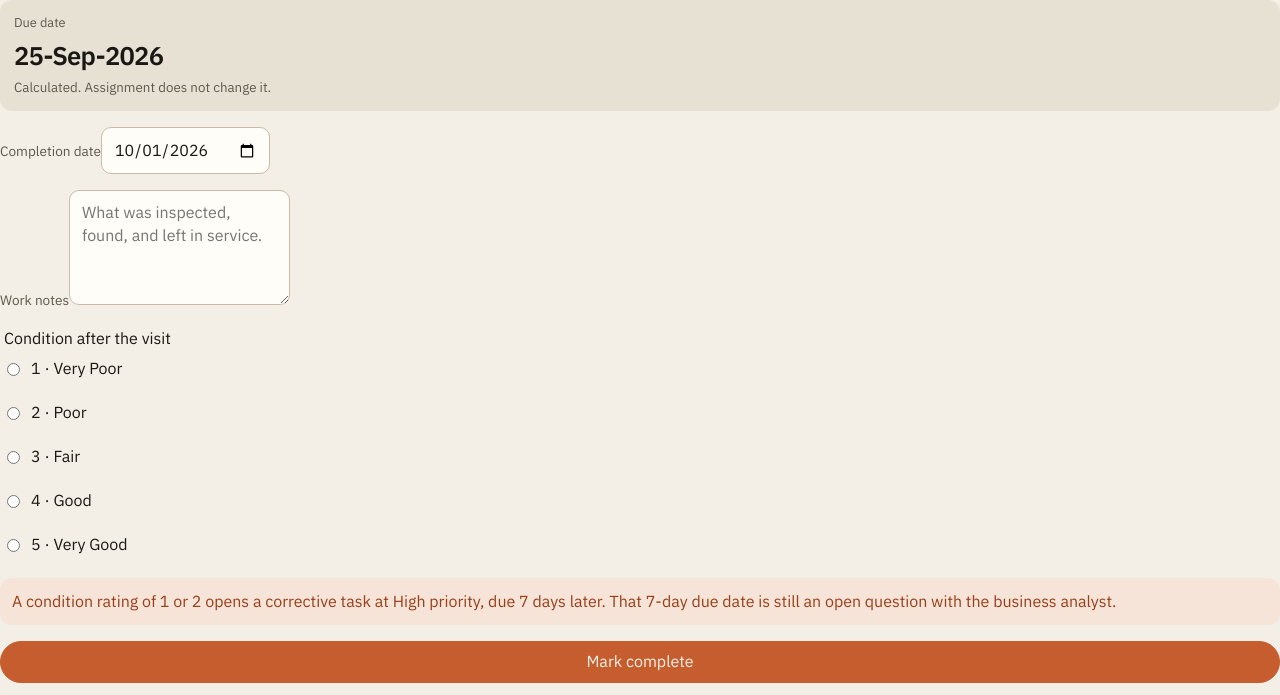
Test: CompletionForm › requires notes and explains the open 7-day corrective question
Expected: the text "still an open question" is shown, [12, 591, 1116, 611]
Step 1. Click the button "Mark complete" → click(640, 662), box [0, 642, 1279, 683]
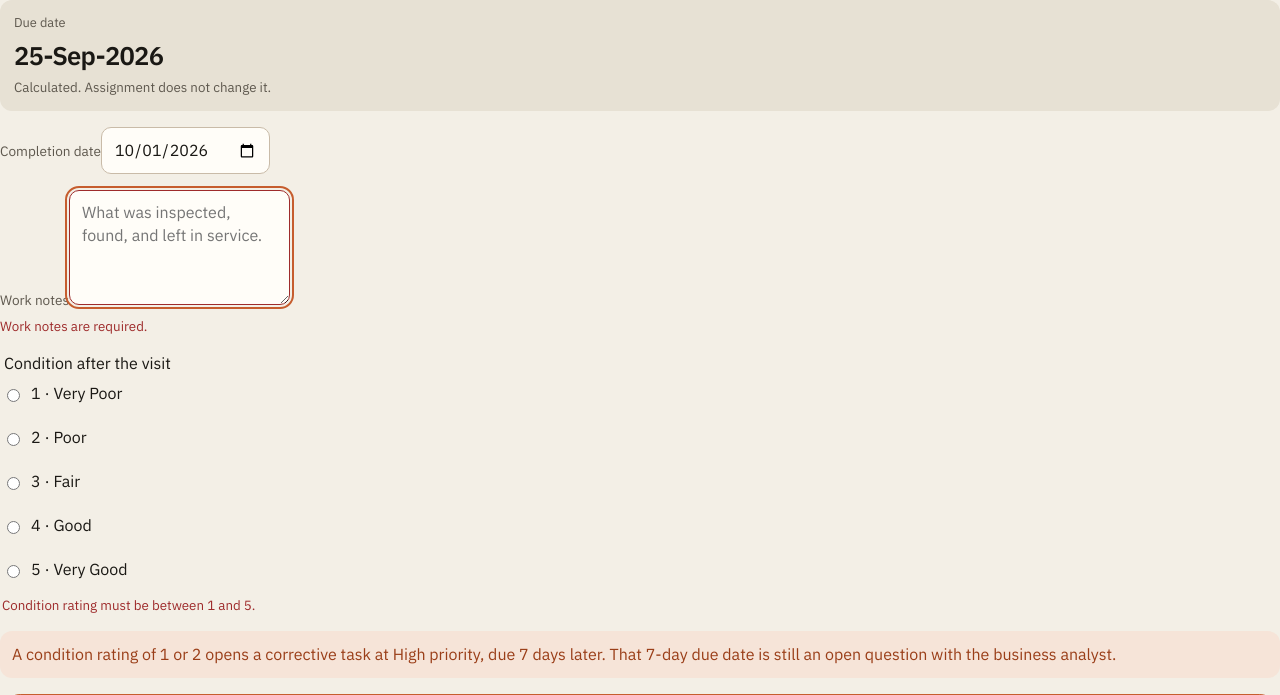
Result: the text "Work notes are required." is shown at [0, 317, 148, 335]
